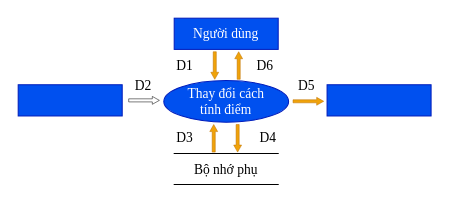
Some shapes in this 449 by 203 pixel diagram are drawn without their labels. Each missing label, with the box of its shape:
Thiết bị nhập: (17, 84, 122, 116)
Thiết bị xuất: (326, 84, 431, 116)
